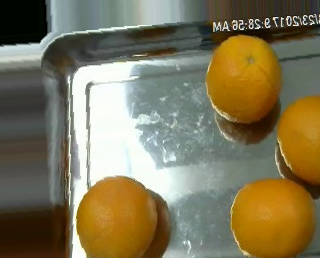Orange: (229, 177, 317, 258), (205, 34, 282, 124), (76, 174, 158, 257)
